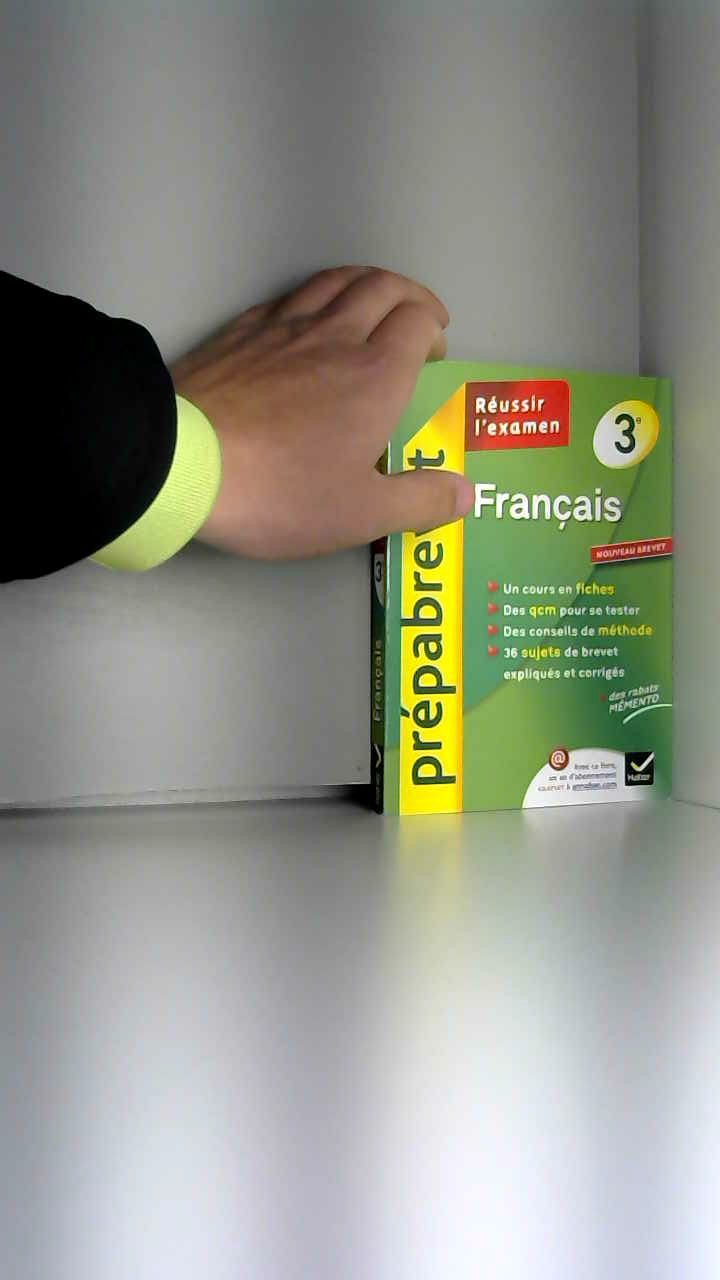book: (327, 285, 707, 852)
